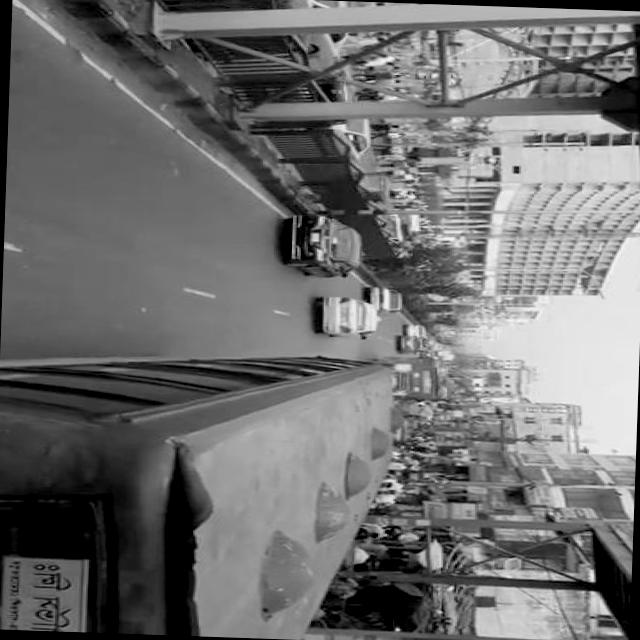bus: (0, 346, 406, 640), (378, 355, 445, 401)
car: (288, 214, 366, 282), (286, 0, 354, 62), (321, 296, 381, 343), (328, 119, 371, 162), (370, 288, 404, 316), (400, 336, 424, 356), (408, 325, 428, 338)
motorcycle: (305, 74, 357, 128), (356, 172, 394, 204)
truck: (376, 214, 405, 247)
